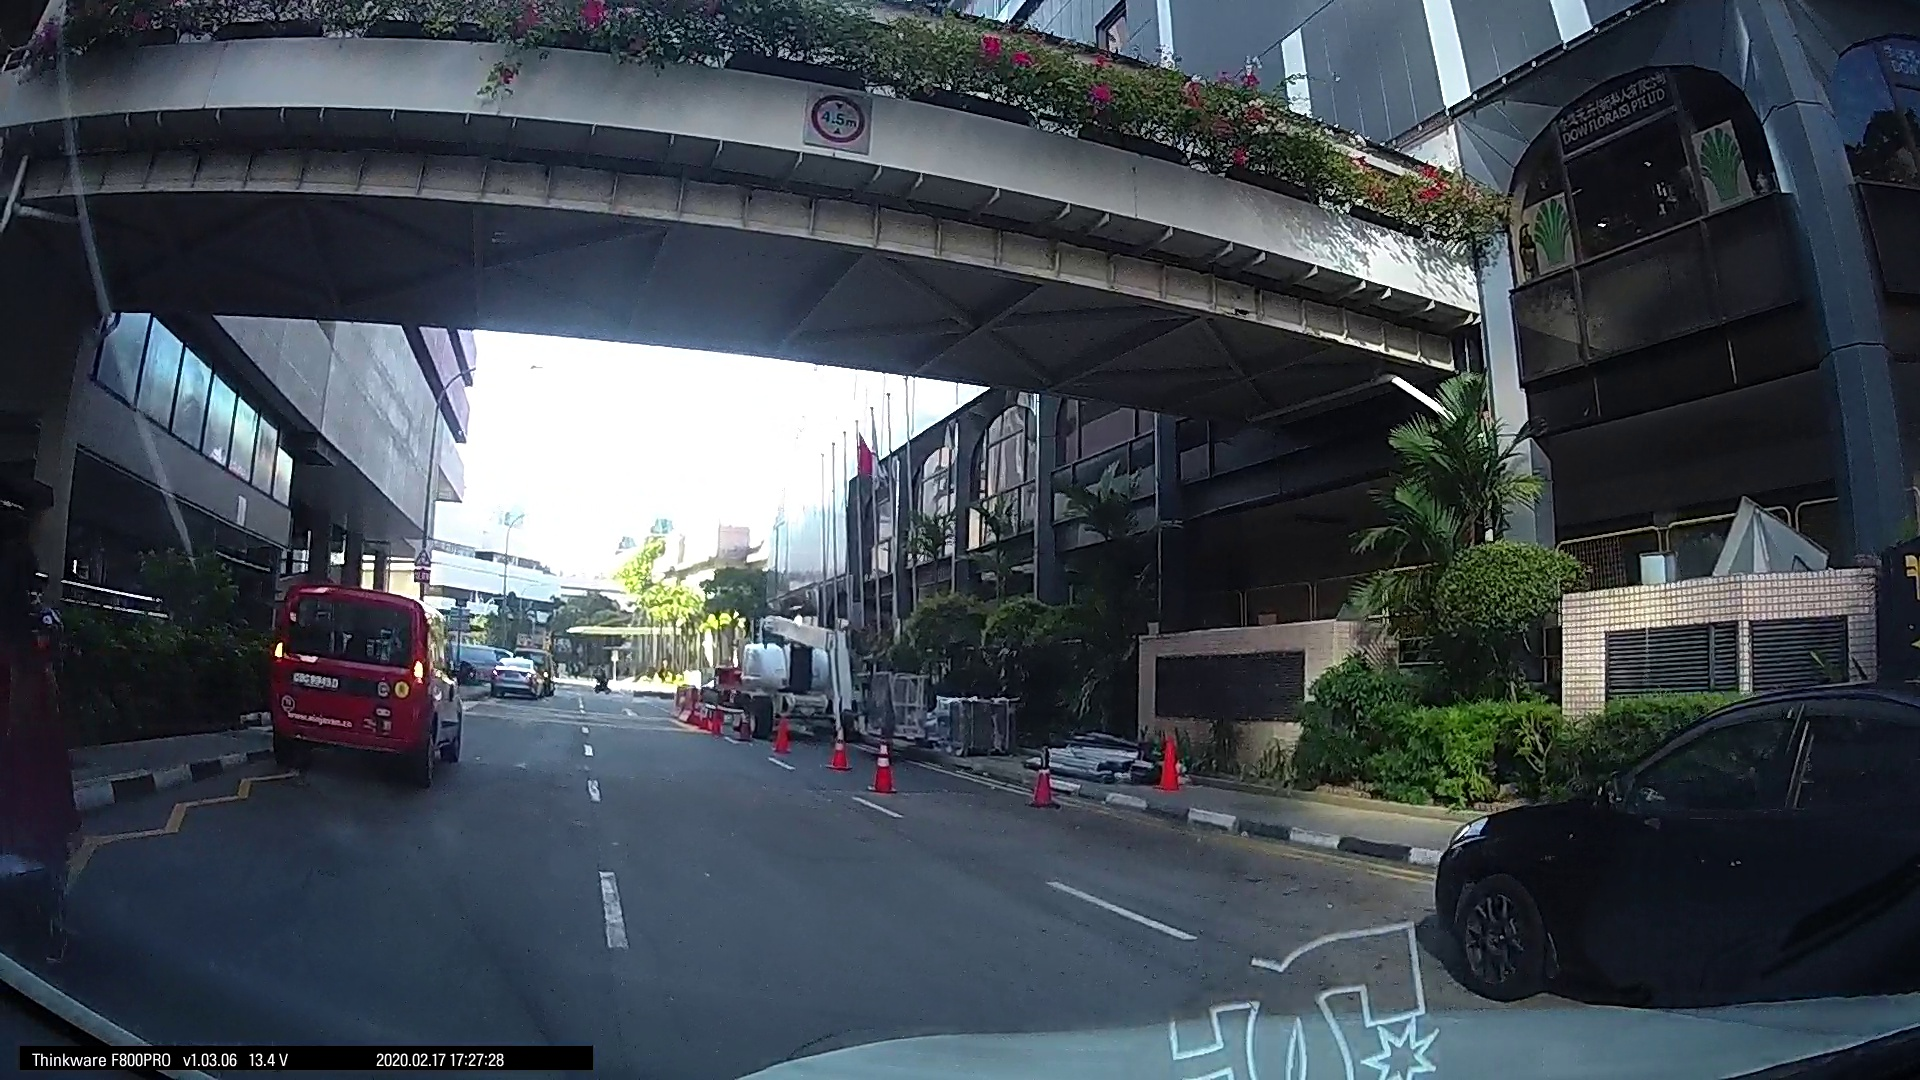Light Vehicle: (41, 520, 694, 972), (650, 644, 783, 816), (1349, 667, 1509, 785), (1726, 707, 1865, 812), (738, 636, 835, 764), (832, 618, 922, 703), (1098, 647, 1158, 698), (982, 653, 1033, 695)
